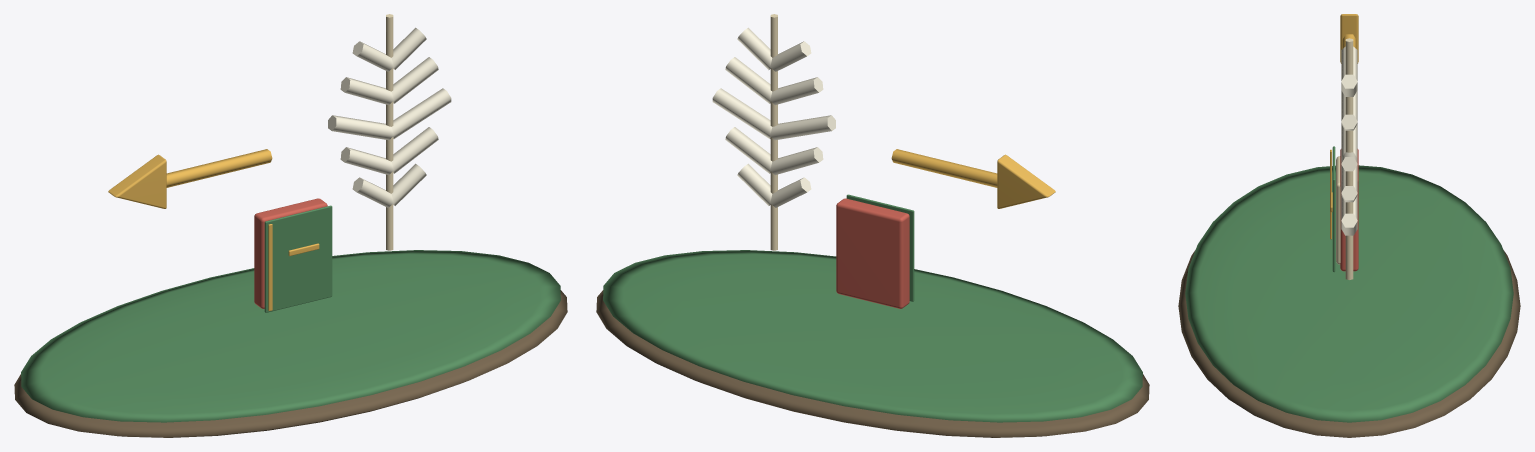
File: repeat-practice.glb
3 views of the same model, side by side, from view 1: azimuth 30°, elevation 25°; view 2: azimuth 150°, elevation 25°; view 3: azimuth 270°, elevation 25° (orthographic). The views are drawn at different scales.
Visible parts, largest first — view 1: repeat-practice_surface_01, repeat-practice_surface_00, repeat-practice_surface_04, repeat-practice_surface_02, repeat-practice_surface_05, repeat-practice_surface_03; view 2: repeat-practice_surface_01, repeat-practice_surface_00, repeat-practice_surface_04, repeat-practice_surface_05, repeat-practice_surface_02, repeat-practice_surface_03; view 3: repeat-practice_surface_01, repeat-practice_surface_00, repeat-practice_surface_04, repeat-practice_surface_03, repeat-practice_surface_02, repeat-practice_surface_05.
Part boxes in pixels (x1,y1,x2,y2): repeat-practice_surface_01: (21,205,560,422); repeat-practice_surface_00: (14,290,567,437); repeat-practice_surface_04: (328,27,451,207); repeat-practice_surface_02: (108,149,319,311); repeat-practice_surface_05: (254,198,327,308); repeat-practice_surface_03: (386,14,393,250); repeat-practice_surface_01: (603,194,1142,422); repeat-practice_surface_00: (596,290,1149,437); repeat-practice_surface_04: (712,27,835,207); repeat-practice_surface_05: (836,198,909,308); repeat-practice_surface_02: (891,149,1055,208); repeat-practice_surface_03: (770,14,777,250); repeat-practice_surface_01: (1185,146,1513,422); repeat-practice_surface_00: (1178,250,1520,437); repeat-practice_surface_04: (1341,46,1357,235); repeat-practice_surface_03: (1336,38,1353,279); repeat-practice_surface_02: (1330,14,1358,239); repeat-practice_surface_05: (1340,149,1358,271).
Bounding box in the file's own units: 4.56 × 2.67 × 2.5.
